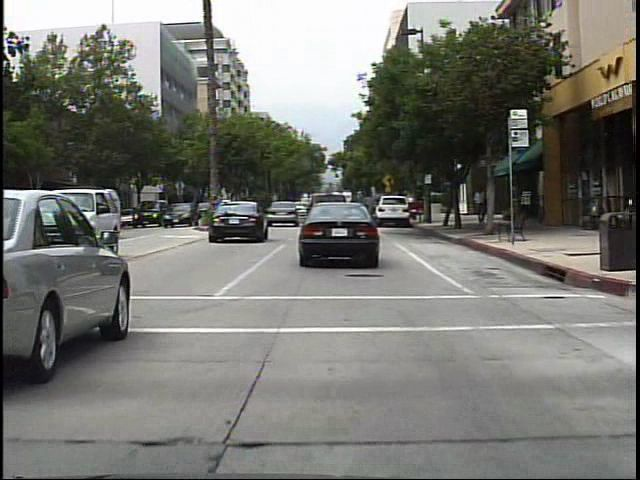person: (472, 185, 492, 229)
